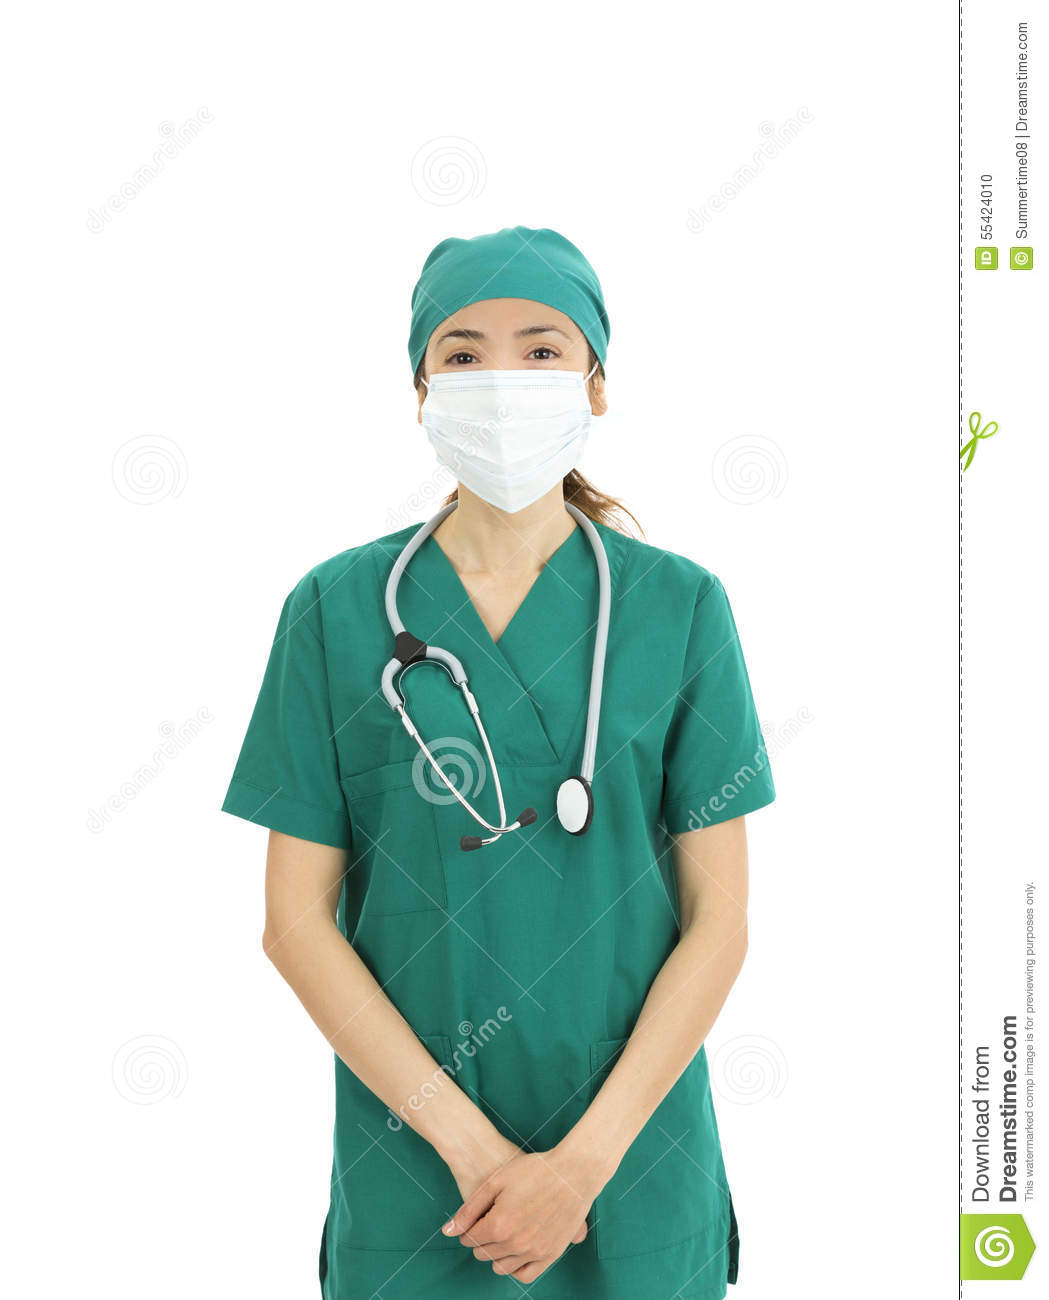mask: (420, 365, 594, 507)
